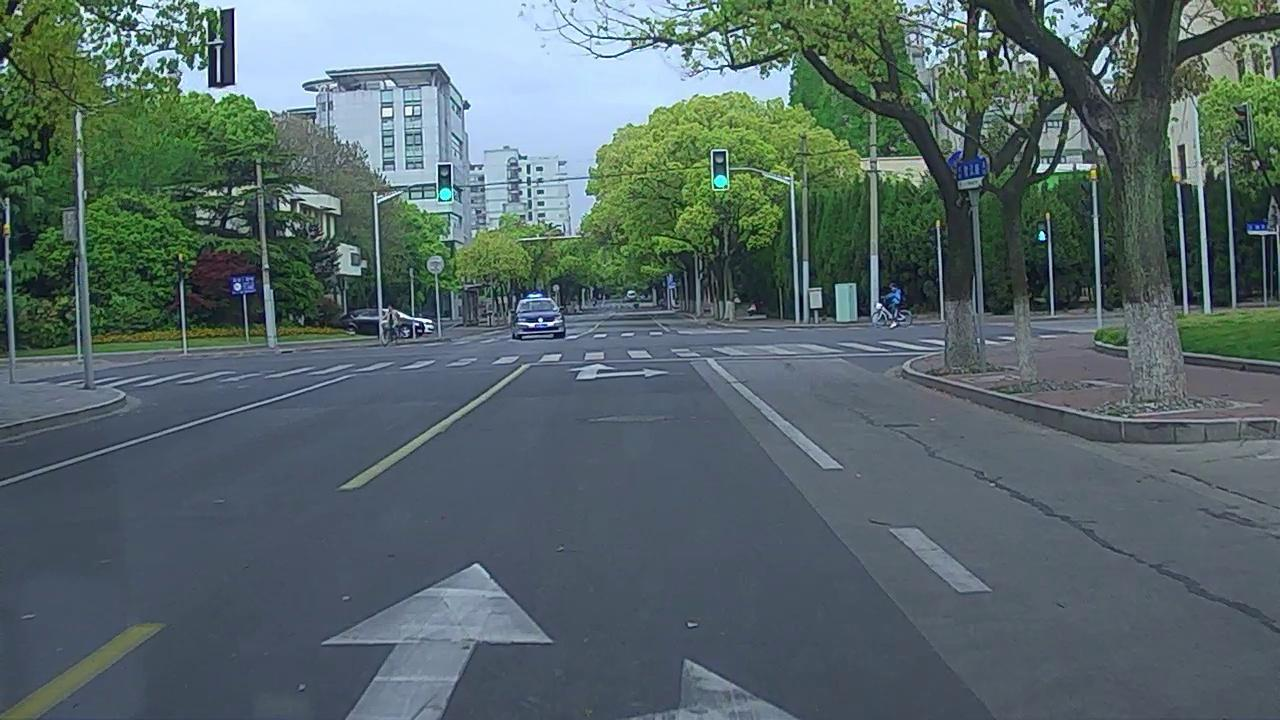traffic_light: (712, 151, 729, 190), (437, 163, 452, 202)
